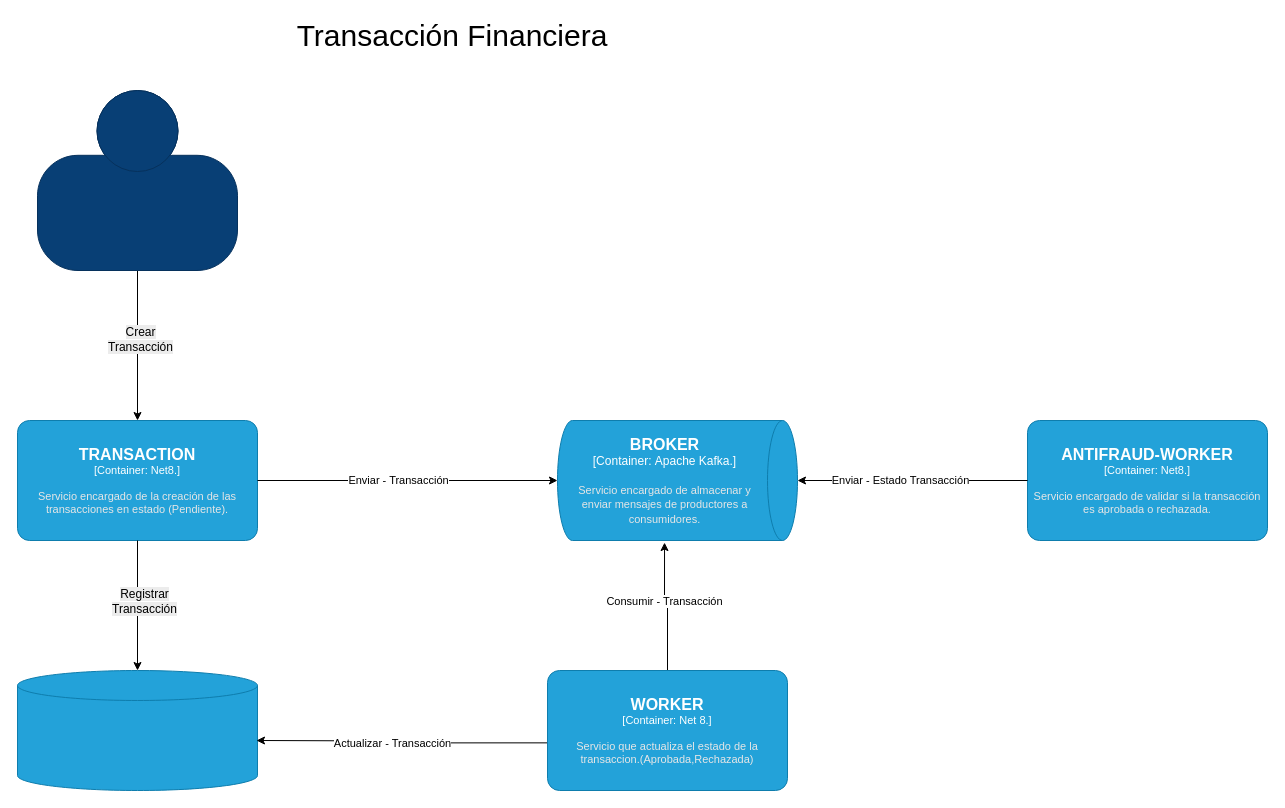
Some shapes in this 1285 by 808 pixel diagram are drawn without their labels. Each missing label, with the box of its shape:
DATA BASE [Container: PostgreSql] Registro y actualización de transacciones: (16, 670, 258, 790)
User [Person] Creación de transacciones financieras: (36, 90, 238, 270)
